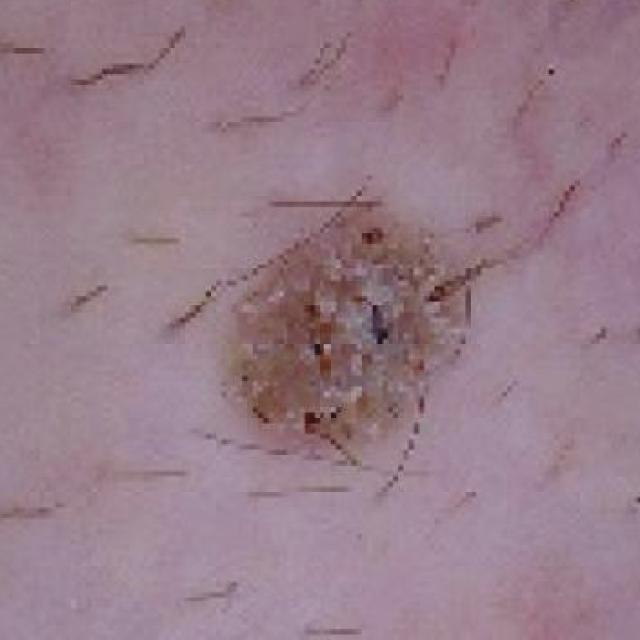BKL: (194, 146, 463, 532)
